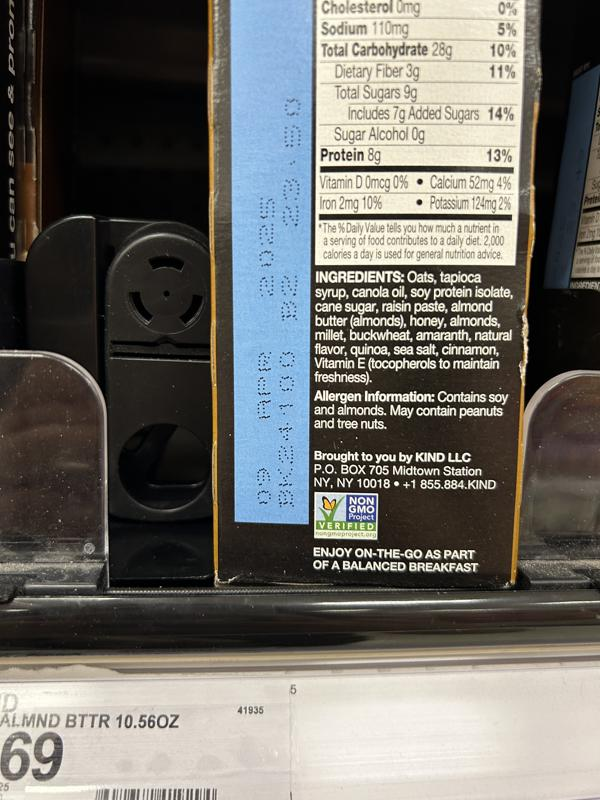ingredients: (315, 268, 513, 386)
